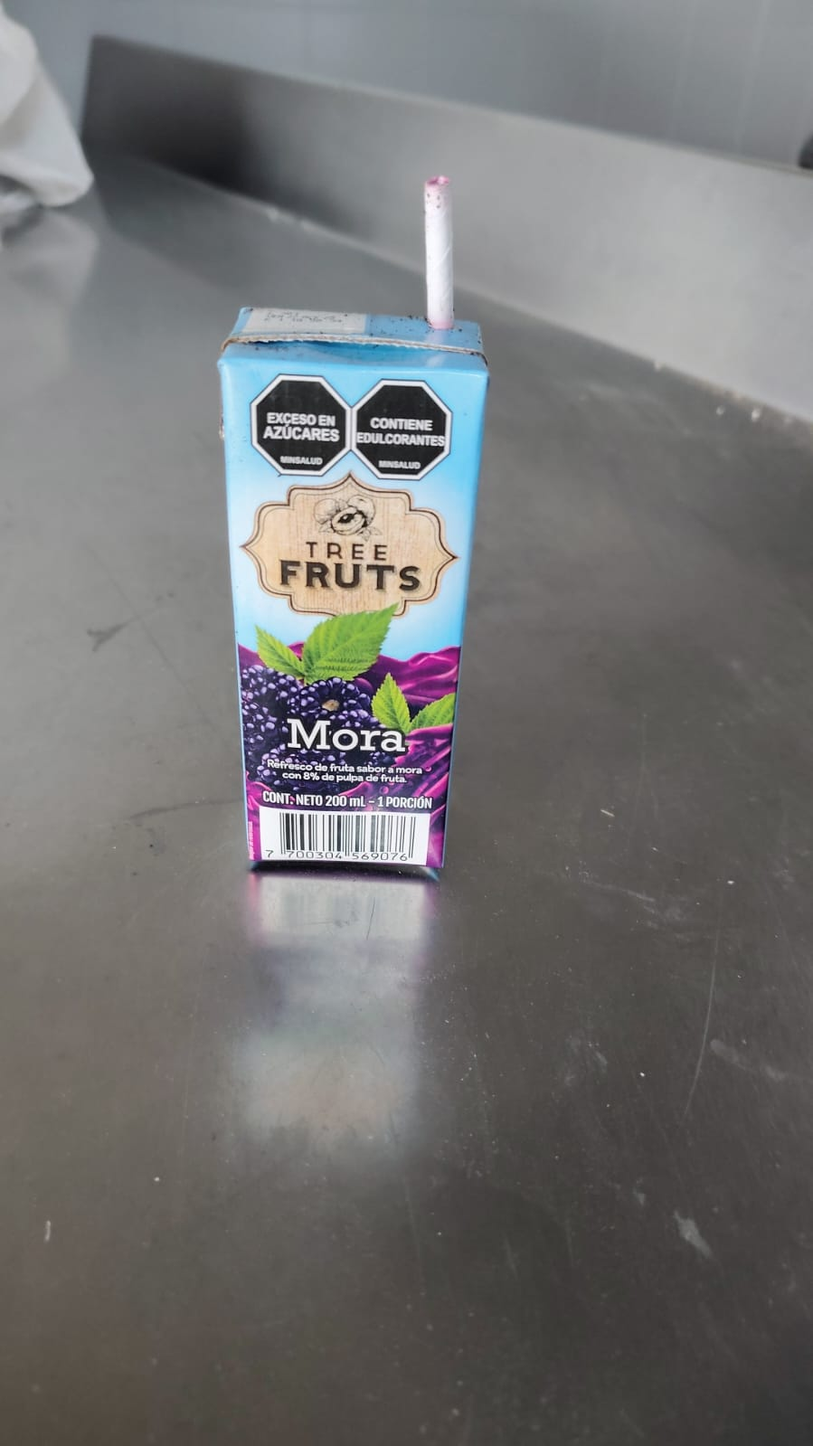Carton: (222, 305, 490, 877)
